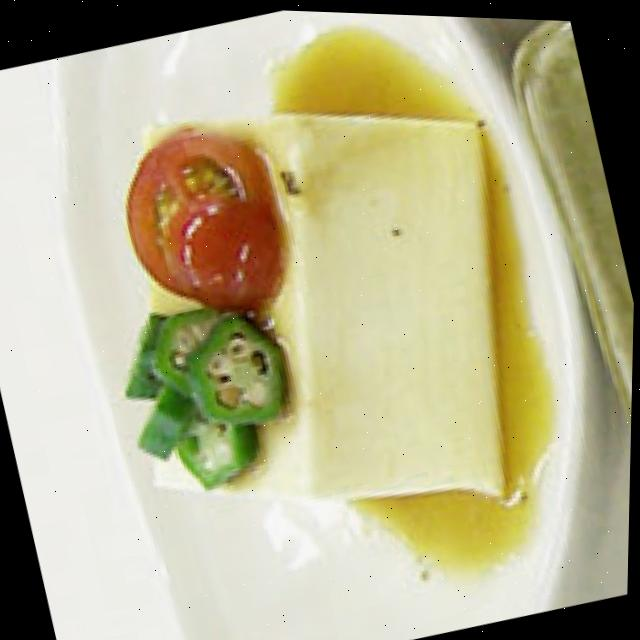豆腐料理: (60, 58, 565, 580)
